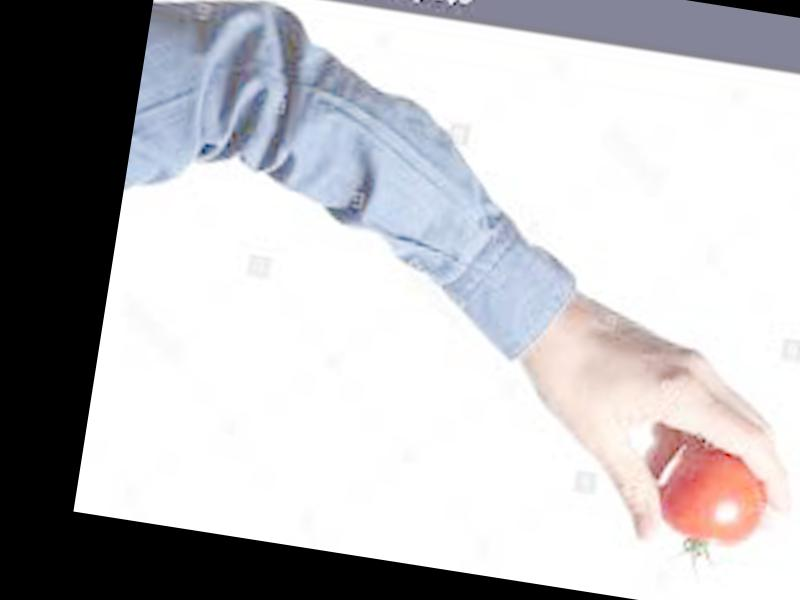Tomato: (657, 446, 773, 548)
